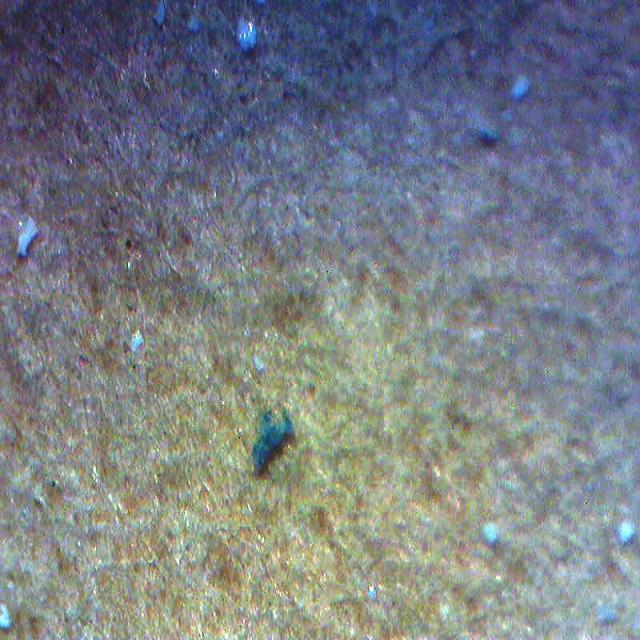microplastic: (252, 400, 294, 475)
